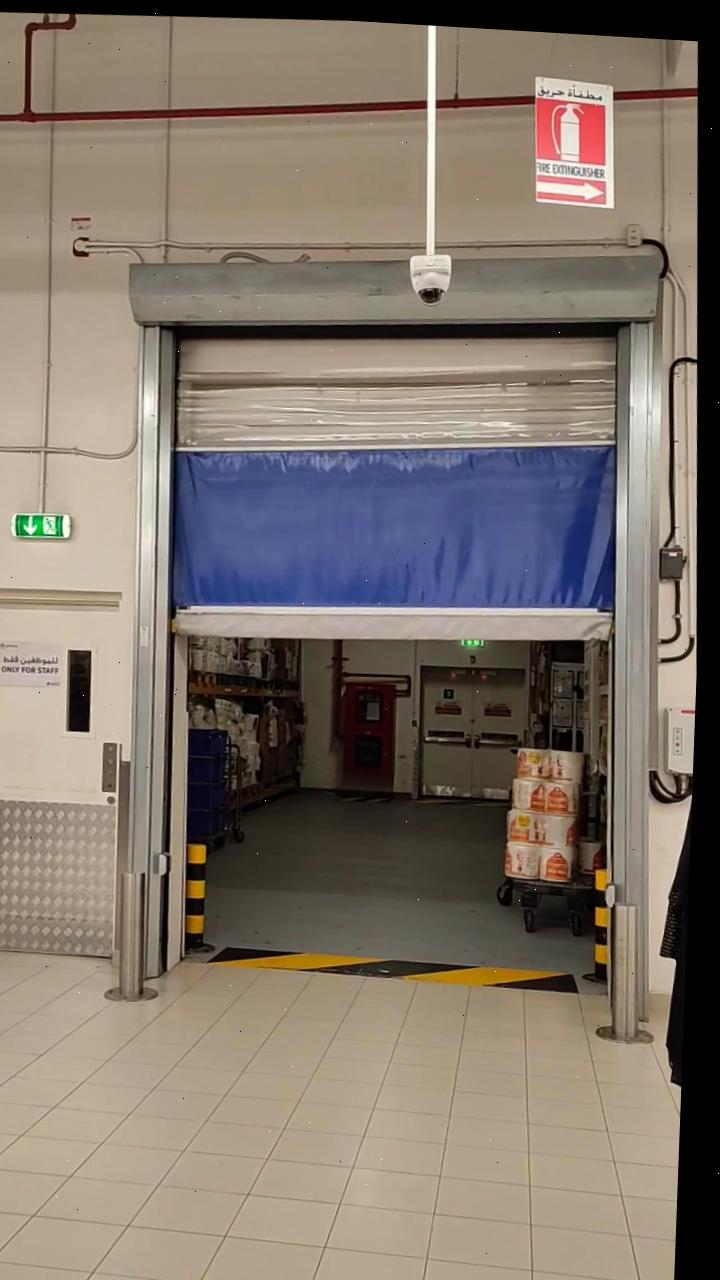Strip: (220, 921, 588, 998)
